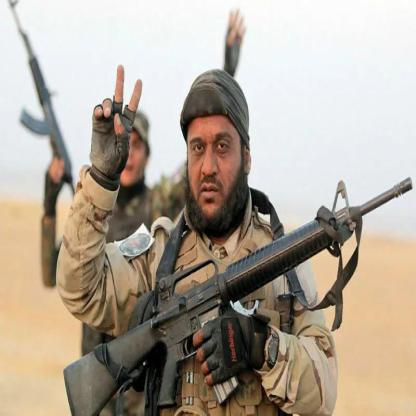rifle: (62, 166, 416, 415), (3, 0, 82, 201)
